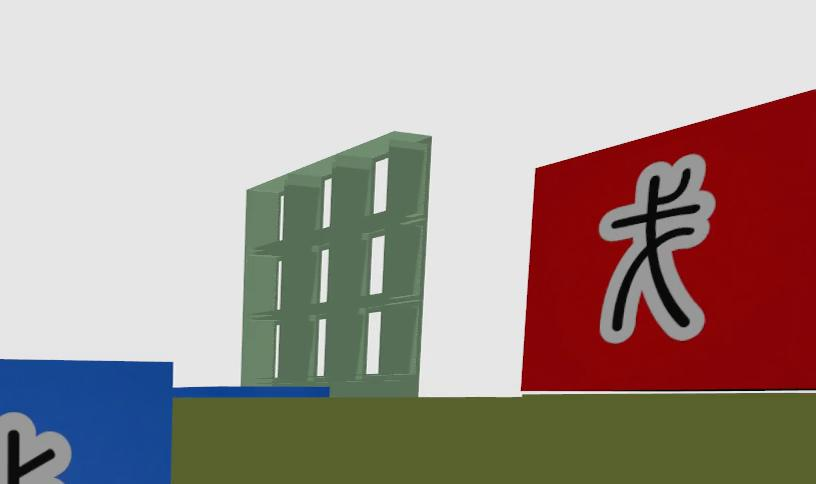KFS_FAKE: (521, 91, 815, 391), (598, 154, 715, 343)
KFS_REAL: (0, 361, 170, 484), (0, 414, 70, 484)
